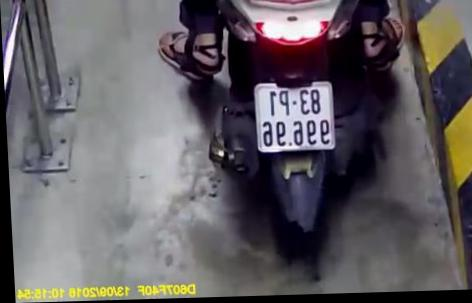License_Plate: (247, 75, 342, 161)
